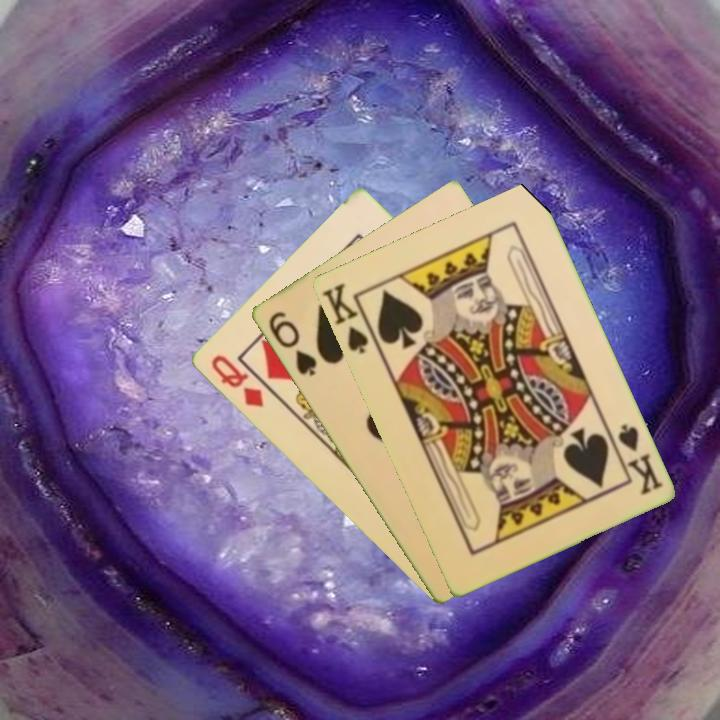6s: (264, 307, 320, 380)
Ks: (318, 279, 381, 357), (613, 420, 665, 498)
Qd: (207, 351, 267, 411)
